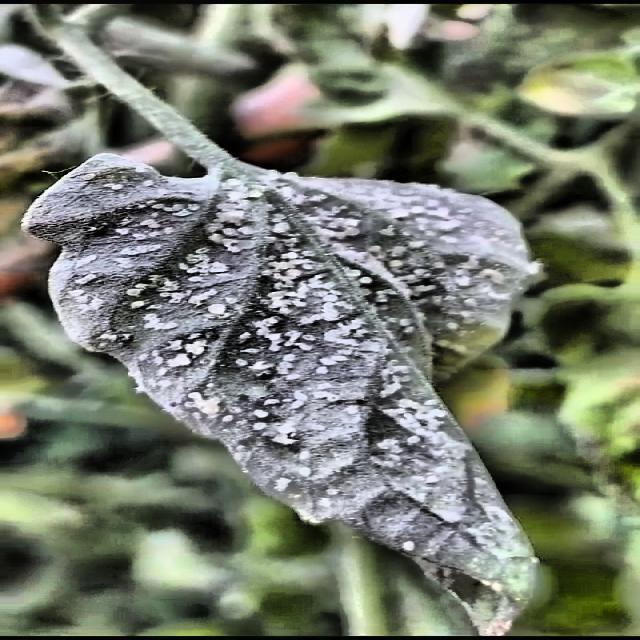nymph: (327, 224, 363, 240), (396, 399, 424, 414), (216, 212, 245, 226), (167, 353, 192, 368), (267, 261, 295, 274), (379, 383, 403, 398), (479, 269, 503, 284), (270, 433, 296, 446), (256, 317, 280, 330), (184, 342, 206, 356), (270, 222, 293, 235), (74, 273, 98, 285), (205, 304, 228, 316), (75, 255, 98, 267), (160, 202, 187, 212), (319, 309, 341, 321), (273, 478, 292, 491), (378, 226, 398, 238), (250, 361, 271, 372), (208, 263, 229, 273), (125, 286, 144, 297), (207, 234, 225, 245), (142, 313, 160, 324), (292, 391, 310, 402), (223, 178, 242, 188), (400, 540, 417, 551), (252, 409, 270, 419), (246, 190, 264, 200), (357, 276, 374, 286), (192, 246, 209, 256), (388, 260, 405, 270), (159, 321, 177, 330), (236, 332, 252, 342), (406, 436, 423, 445), (234, 358, 249, 368), (314, 365, 329, 375), (130, 300, 146, 309), (186, 275, 204, 283), (120, 248, 138, 256), (70, 289, 85, 298), (177, 263, 192, 272), (264, 398, 280, 406), (99, 333, 115, 341), (114, 228, 131, 235), (327, 487, 340, 495), (142, 180, 155, 187), (110, 184, 124, 190)
